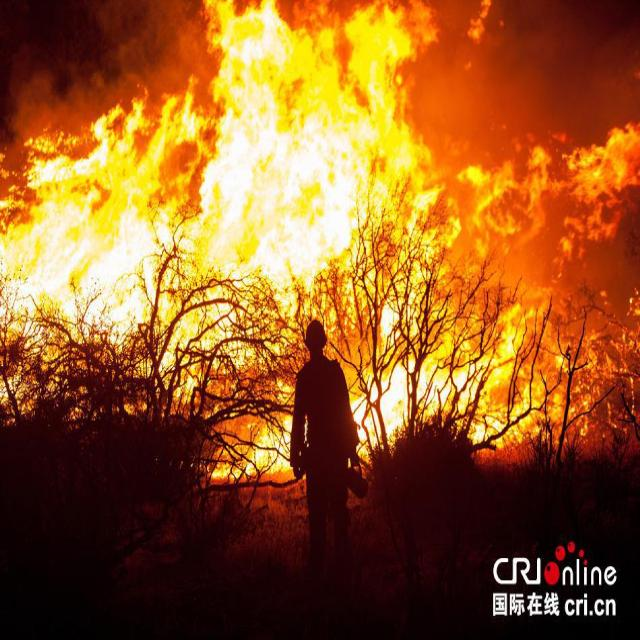fire: (4, 4, 629, 476)
